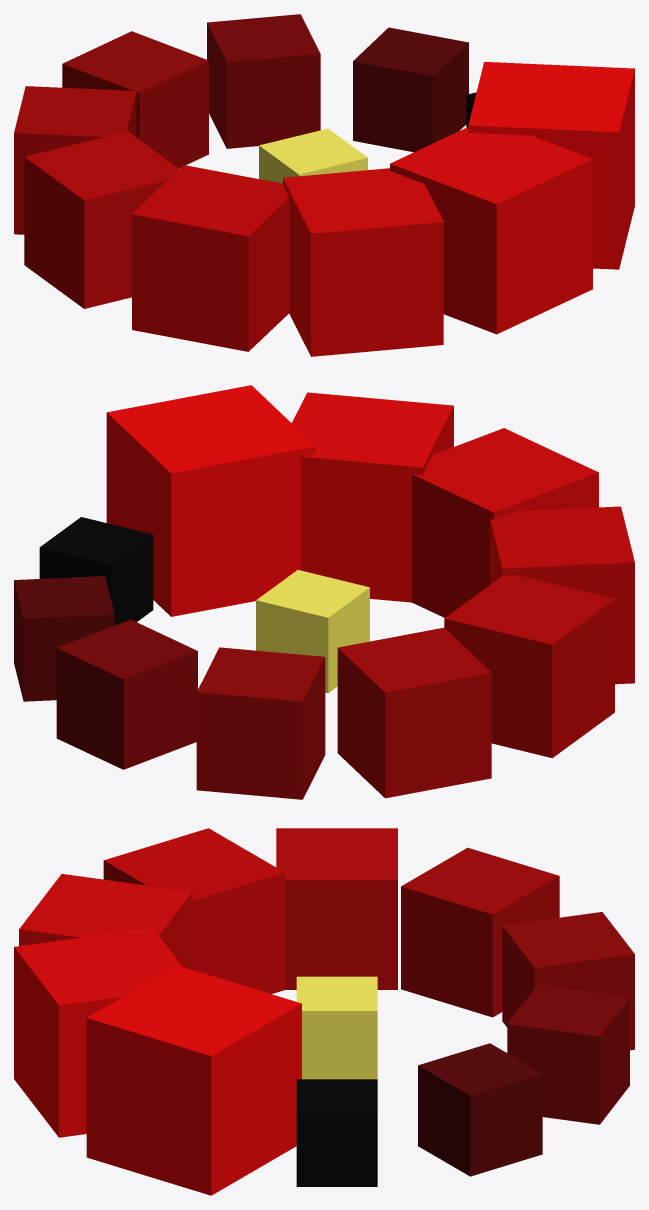
File: Elements_Geometry_Transform.glb
3 views of the same model, one above another, from view 1: azimuth 30°, elevation 25°; view 2: azimuth 150°, elevation 25°; view 3: azimuth 270°, elevation 25° (orthographic). The views are drawn at different scales.
Parts seen in each view (by area): view 1: eca046a6-8e26-4195-9507-c16067f3c1d6_mesh, cb1dcfdc-75bc-4a9b-ac38-f4ab63fb2b19_mesh, 1818175e-4808-4a73-98d4-c0b7eb3c1c42_mesh, b94dd5ad-6791-478e-9eb5-33c9f3111cd8_mesh, efa10f7d-001f-494e-acde-4169cf3d253a_mesh, d5331619-8c5f-4dae-8dca-43b215d4d08e_mesh, ada04e01-7694-4d35-835c-c4742169d692_mesh, ee68e601-8e6a-462b-aa9a-553d60c1f093_mesh, 9f5c562a-2209-4a43-b492-d86ca2f41218_mesh, 8a573d6c-76fb-456e-ae40-693f156a0bad_mesh; view 2: efa10f7d-001f-494e-acde-4169cf3d253a_mesh, eca046a6-8e26-4195-9507-c16067f3c1d6_mesh, 9f5c562a-2209-4a43-b492-d86ca2f41218_mesh, b94dd5ad-6791-478e-9eb5-33c9f3111cd8_mesh, cb1dcfdc-75bc-4a9b-ac38-f4ab63fb2b19_mesh, ee68e601-8e6a-462b-aa9a-553d60c1f093_mesh, d5331619-8c5f-4dae-8dca-43b215d4d08e_mesh, 1818175e-4808-4a73-98d4-c0b7eb3c1c42_mesh, 8a573d6c-76fb-456e-ae40-693f156a0bad_mesh, ada04e01-7694-4d35-835c-c4742169d692_mesh, 238b52d0-0a4a-49b7-a576-ee631e85a852_mesh; view 3: efa10f7d-001f-494e-acde-4169cf3d253a_mesh, eca046a6-8e26-4195-9507-c16067f3c1d6_mesh, 9f5c562a-2209-4a43-b492-d86ca2f41218_mesh, b94dd5ad-6791-478e-9eb5-33c9f3111cd8_mesh, 1818175e-4808-4a73-98d4-c0b7eb3c1c42_mesh, ada04e01-7694-4d35-835c-c4742169d692_mesh, d5331619-8c5f-4dae-8dca-43b215d4d08e_mesh, ee68e601-8e6a-462b-aa9a-553d60c1f093_mesh, cb1dcfdc-75bc-4a9b-ac38-f4ab63fb2b19_mesh, 238b52d0-0a4a-49b7-a576-ee631e85a852_mesh, 8a573d6c-76fb-456e-ae40-693f156a0bad_mesh.
Part boxes in pixels (left/top/right/bottom): eca046a6-8e26-4195-9507-c16067f3c1d6_mesh: left=390, top=127, right=592, bottom=334; cb1dcfdc-75bc-4a9b-ac38-f4ab63fb2b19_mesh: left=283, top=168, right=443, bottom=356; 1818175e-4808-4a73-98d4-c0b7eb3c1c42_mesh: left=132, top=165, right=289, bottom=351; b94dd5ad-6791-478e-9eb5-33c9f3111cd8_mesh: left=24, top=131, right=178, bottom=308; efa10f7d-001f-494e-acde-4169cf3d253a_mesh: left=468, top=62, right=634, bottom=269; d5331619-8c5f-4dae-8dca-43b215d4d08e_mesh: left=207, top=14, right=320, bottom=148; ada04e01-7694-4d35-835c-c4742169d692_mesh: left=353, top=27, right=468, bottom=152; ee68e601-8e6a-462b-aa9a-553d60c1f093_mesh: left=62, top=31, right=208, bottom=168; 9f5c562a-2209-4a43-b492-d86ca2f41218_mesh: left=14, top=86, right=136, bottom=234; 8a573d6c-76fb-456e-ae40-693f156a0bad_mesh: left=259, top=128, right=367, bottom=183; efa10f7d-001f-494e-acde-4169cf3d253a_mesh: left=106, top=385, right=315, bottom=616; eca046a6-8e26-4195-9507-c16067f3c1d6_mesh: left=292, top=392, right=453, bottom=602; 9f5c562a-2209-4a43-b492-d86ca2f41218_mesh: left=337, top=627, right=491, bottom=798; b94dd5ad-6791-478e-9eb5-33c9f3111cd8_mesh: left=444, top=575, right=614, bottom=758; cb1dcfdc-75bc-4a9b-ac38-f4ab63fb2b19_mesh: left=412, top=428, right=598, bottom=617; ee68e601-8e6a-462b-aa9a-553d60c1f093_mesh: left=196, top=647, right=325, bottom=799; d5331619-8c5f-4dae-8dca-43b215d4d08e_mesh: left=56, top=619, right=197, bottom=769; 1818175e-4808-4a73-98d4-c0b7eb3c1c42_mesh: left=490, top=506, right=634, bottom=684; 8a573d6c-76fb-456e-ae40-693f156a0bad_mesh: left=256, top=570, right=369, bottom=693; ada04e01-7694-4d35-835c-c4742169d692_mesh: left=14, top=576, right=114, bottom=701; 238b52d0-0a4a-49b7-a576-ee631e85a852_mesh: left=39, top=517, right=153, bottom=625; efa10f7d-001f-494e-acde-4169cf3d253a_mesh: left=86, top=965, right=301, bottom=1195; eca046a6-8e26-4195-9507-c16067f3c1d6_mesh: left=14, top=928, right=182, bottom=1137; 9f5c562a-2209-4a43-b492-d86ca2f41218_mesh: left=401, top=847, right=559, bottom=1017; b94dd5ad-6791-478e-9eb5-33c9f3111cd8_mesh: left=276, top=828, right=397, bottom=989; 1818175e-4808-4a73-98d4-c0b7eb3c1c42_mesh: left=103, top=828, right=284, bottom=993; ada04e01-7694-4d35-835c-c4742169d692_mesh: left=418, top=1043, right=542, bottom=1176; d5331619-8c5f-4dae-8dca-43b215d4d08e_mesh: left=507, top=985, right=629, bottom=1124; ee68e601-8e6a-462b-aa9a-553d60c1f093_mesh: left=502, top=912, right=634, bottom=1050; cb1dcfdc-75bc-4a9b-ac38-f4ab63fb2b19_mesh: left=19, top=874, right=192, bottom=969; 238b52d0-0a4a-49b7-a576-ee631e85a852_mesh: left=296, top=1079, right=377, bottom=1186; 8a573d6c-76fb-456e-ae40-693f156a0bad_mesh: left=296, top=976, right=377, bottom=1079.
Size of the model in its own units: 7.5 by 1.9 by 7.66.
